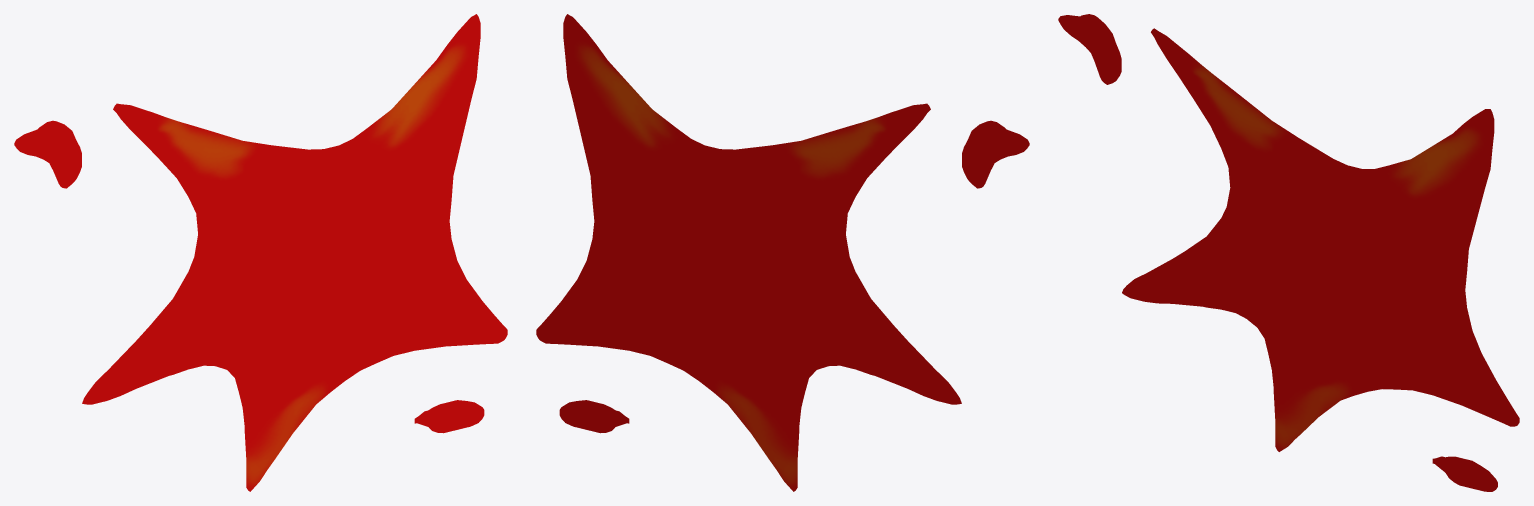
The model's file is Shpriz.glb.
3 views of the same model, side by side, from view 1: azimuth 30°, elevation 25°; view 2: azimuth 150°, elevation 25°; view 3: azimuth 330°, elevation 25° (orthographic). The views are drawn at different scales.
Parts seen in each view (by area): view 1: Shpriz; view 2: Shpriz; view 3: Shpriz.
Boxes of the visible parts, box(x1,y1,x2,y2) form: Shpriz: box(14, 14, 507, 491); Shpriz: box(536, 14, 1029, 491); Shpriz: box(1058, 14, 1519, 491).
Size of the model in its own units: 169 by 138 by 8.58e-06.
Materials: 1 (1 with a texture image).
